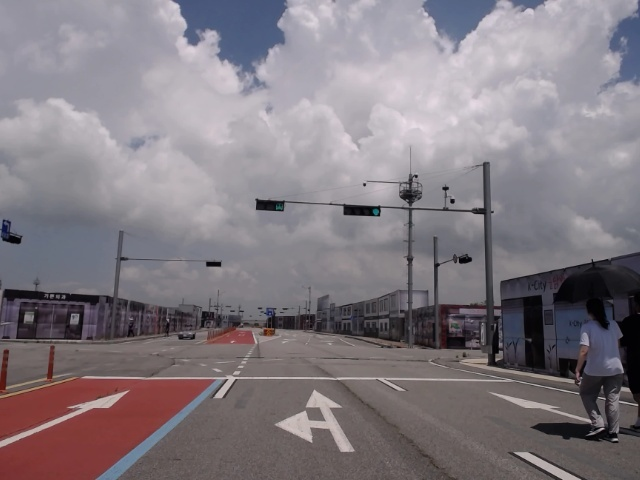straight_green_4: (344, 205, 381, 217)
